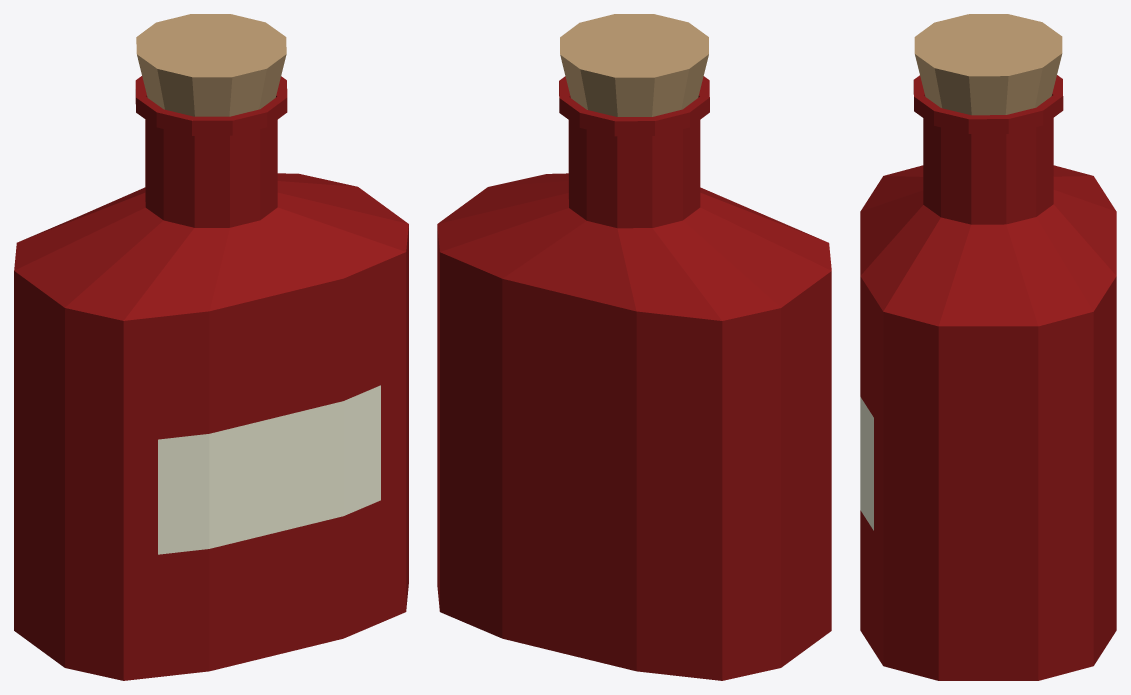
Rendered from potion_red_1.fbx.
The picture shows the model from 3 angles, left to right: view 1: azimuth 30°, elevation 25°; view 2: azimuth 150°, elevation 25°; view 3: azimuth 270°, elevation 25°; orthographic projection.
Parts seen in each view (by area): view 1: potion_red_1; view 2: potion_red_1; view 3: potion_red_1.
Part boxes in pixels (bbox=[...]): potion_red_1: bbox=[14, 14, 408, 680]; potion_red_1: bbox=[437, 14, 831, 680]; potion_red_1: bbox=[860, 14, 1116, 680].
Bounding box in the file's own units: 33.79 × 52.72 × 22.13.
